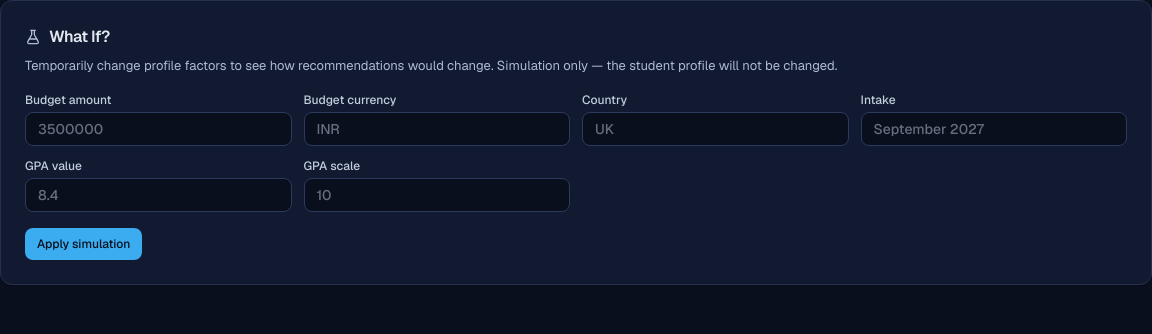
it: WhatIfPanel › shows an error state when the request fails
Type "Canada" into the field named "Scenario country" at coordinates (715, 129), box [582,112,848,146]
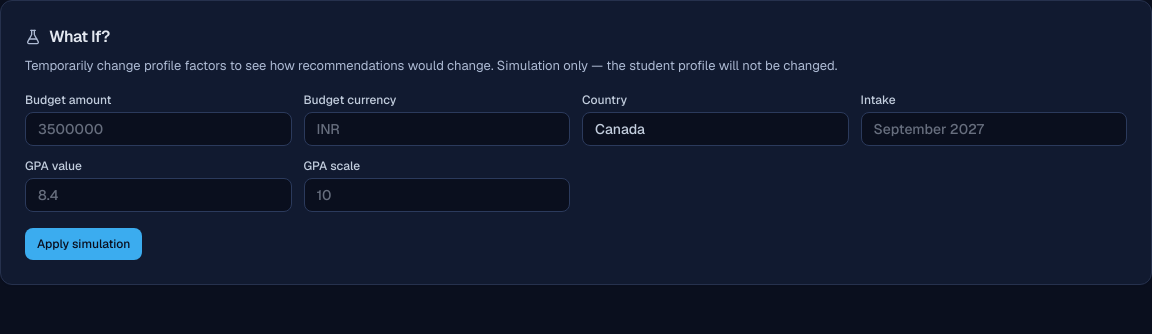
Click the button "Apply simulation" at coordinates (84, 244), box [25,228,142,260]
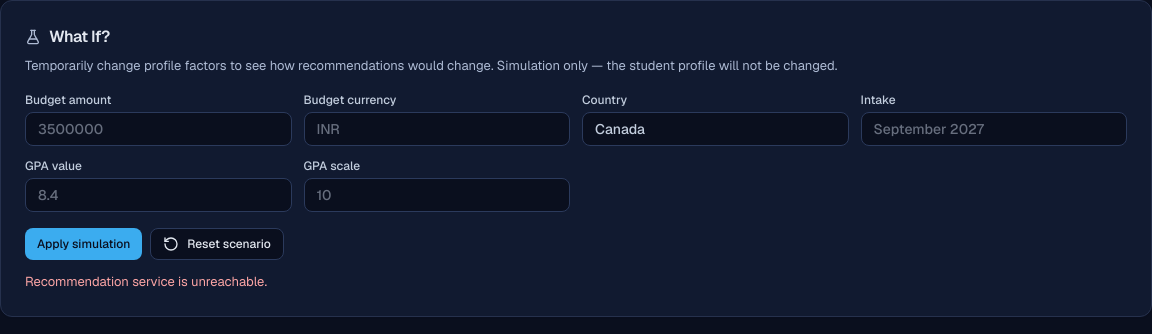
Now the message "Recommendation service is unreachable." is shown, box [25,273,267,290]
